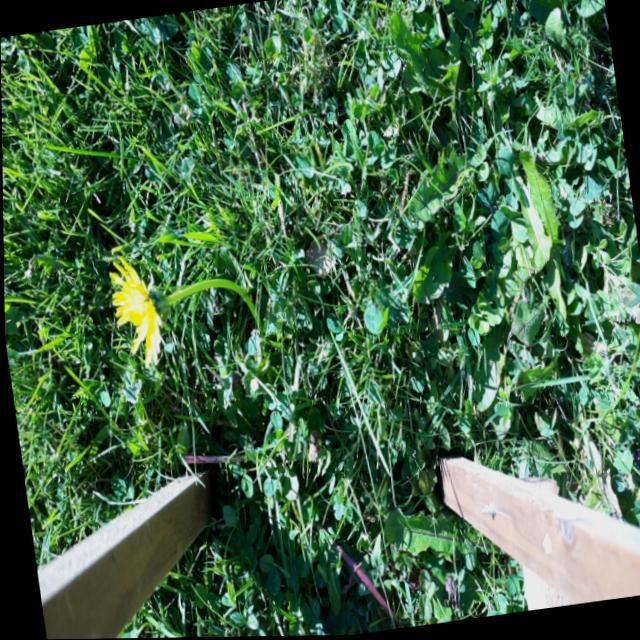base: (242, 307, 273, 351)
